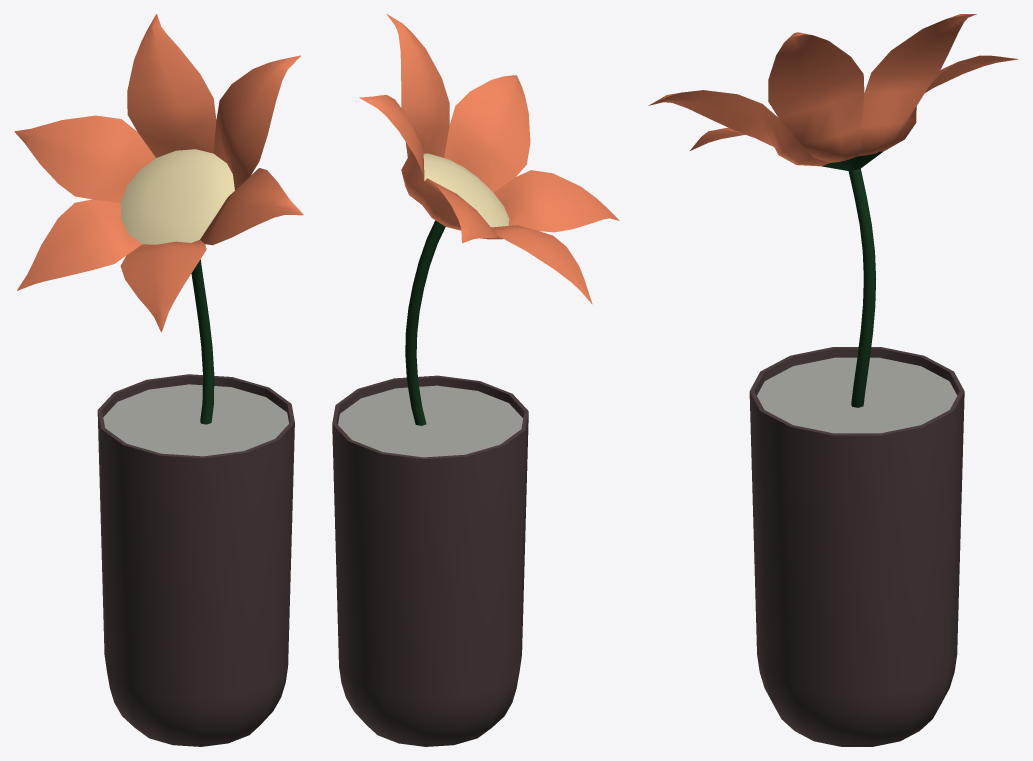
File: FI_052_flower_pot.glb
The picture shows the model from 3 angles, left to right: view 1: azimuth 30°, elevation 25°; view 2: azimuth 150°, elevation 25°; view 3: azimuth 270°, elevation 25°; orthographic projection. The views are drawn at different scales.
Visible parts, largest first — view 1: flower_pot; view 2: flower_pot; view 3: flower_pot.
Boxes of the visible parts, bbox=[...] form: flower_pot: bbox=[14, 14, 303, 746]; flower_pot: bbox=[332, 14, 619, 746]; flower_pot: bbox=[648, 14, 1018, 746].
Bounding box in the file's own units: 0.4314 × 1.08 × 0.5035.
